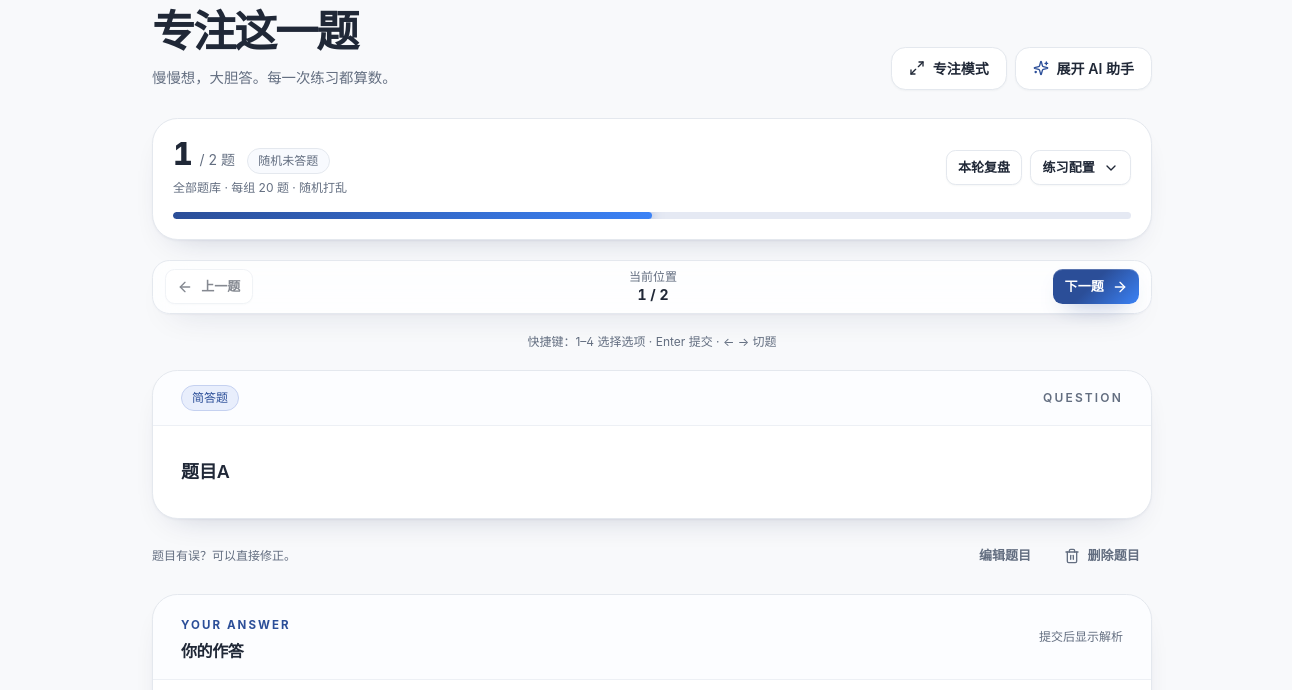
Test: AI context isolation and pending uploads › removes submitted AI content immediately when answering again
Expected: the text "题目A" is shown, [181,460,230,482]
Click the button "展开 AI 助手" at [1083, 68], box [1015,47,1152,90]
(page scrolled)
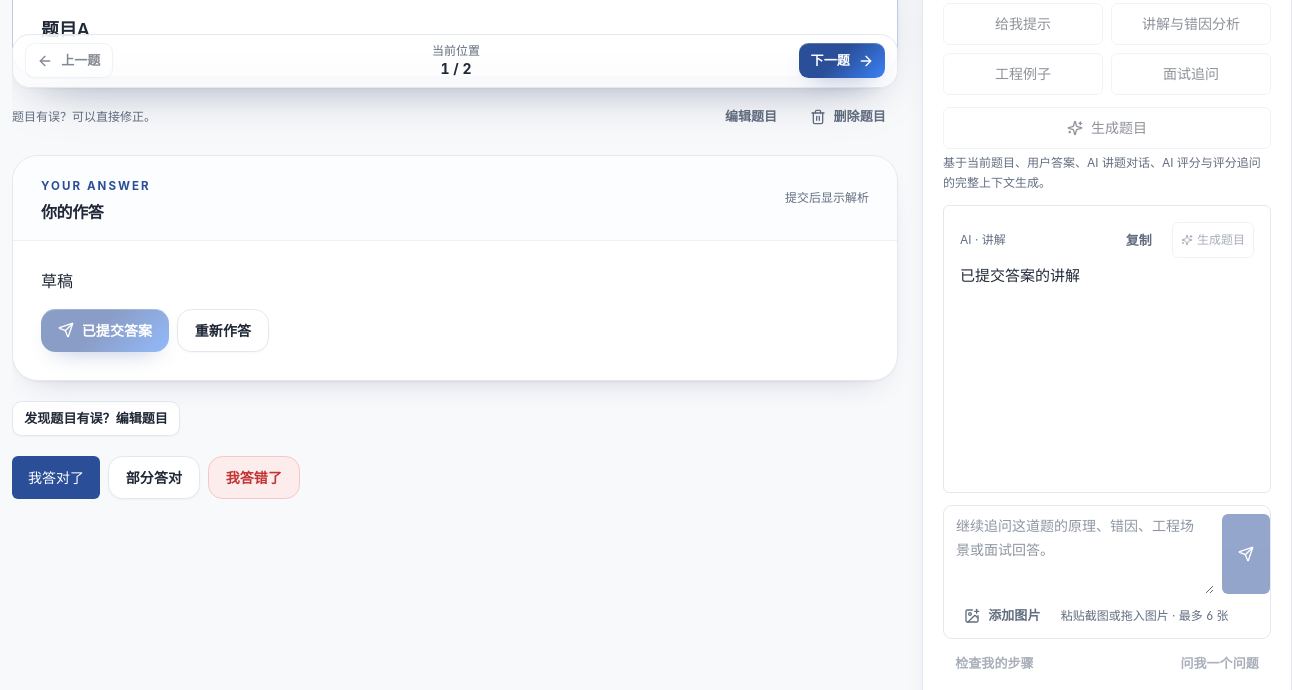
Result: the text "已提交答案的讲解" is shown at [960,266,1080,285]
Click the button "重新作答" at [223, 330], box [177,309,269,352]
(page scrolled)
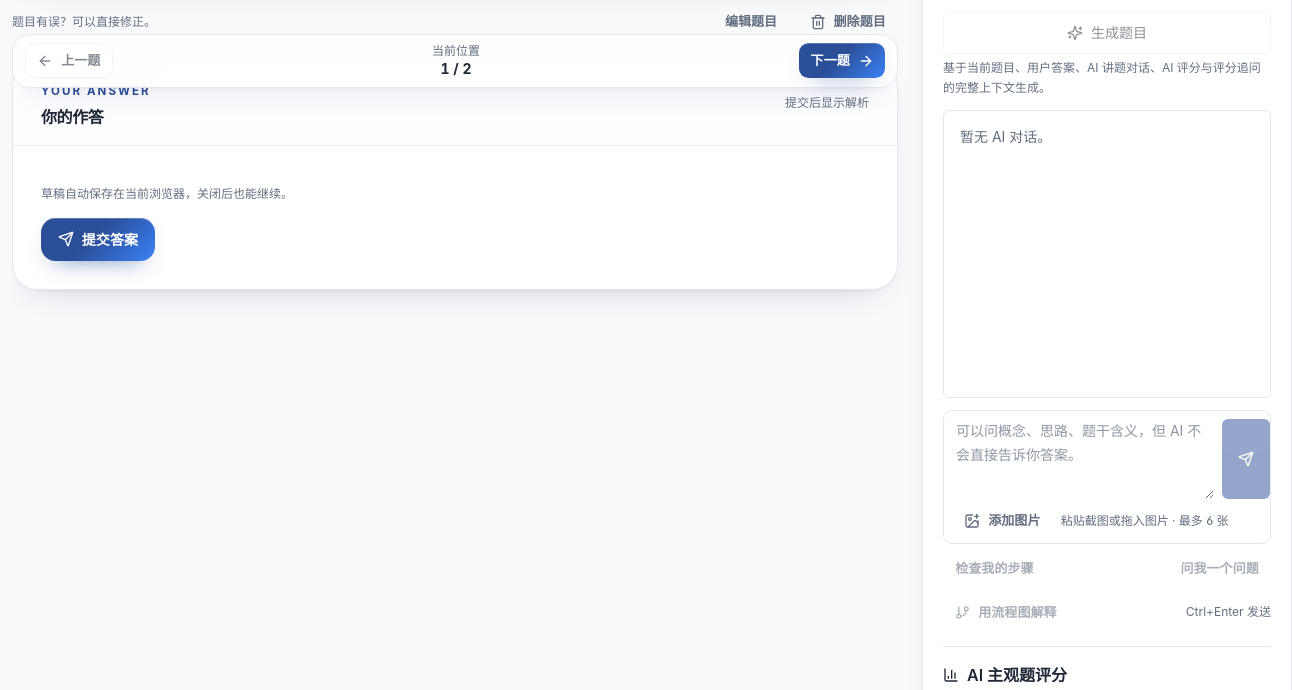
Result: the text "已提交答案的讲解" is gone
